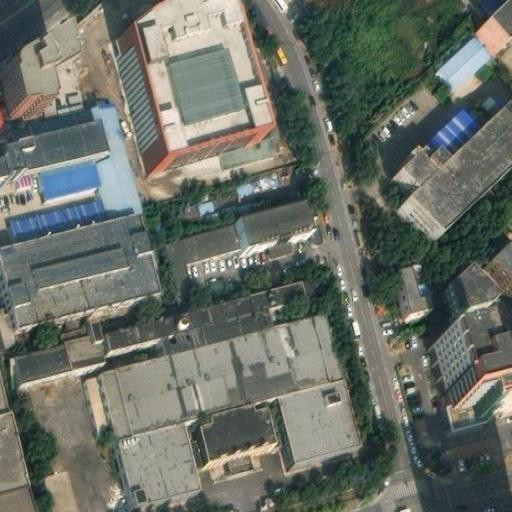building: (102, 306, 362, 498), (114, 0, 252, 165), (388, 102, 512, 240), (32, 95, 137, 216), (158, 272, 308, 348), (437, 297, 500, 411), (16, 306, 112, 375), (167, 210, 246, 280), (0, 118, 96, 171), (4, 30, 64, 111), (0, 192, 103, 239), (418, 103, 482, 166), (0, 408, 37, 512), (238, 193, 314, 240), (433, 28, 493, 86), (461, 273, 512, 329), (105, 310, 163, 344), (473, 0, 512, 47), (177, 189, 231, 222), (386, 265, 422, 314), (238, 169, 286, 195), (455, 407, 485, 434)
